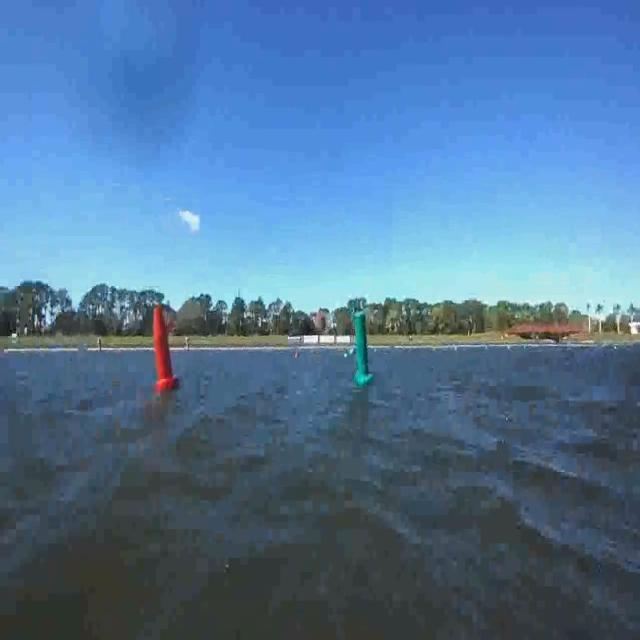green-column-buoy: (352, 312, 372, 385)
red-column-buoy: (150, 305, 178, 392)
